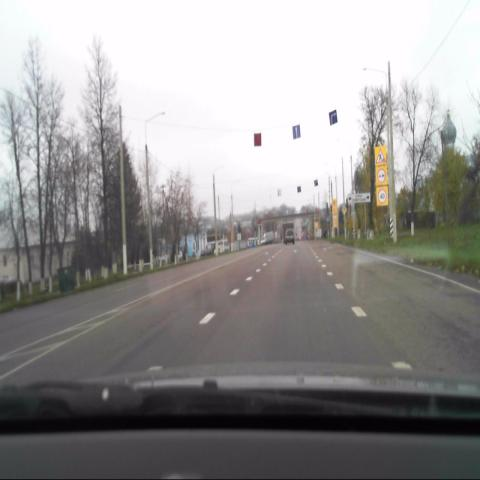1_25: (374, 146, 387, 164)
